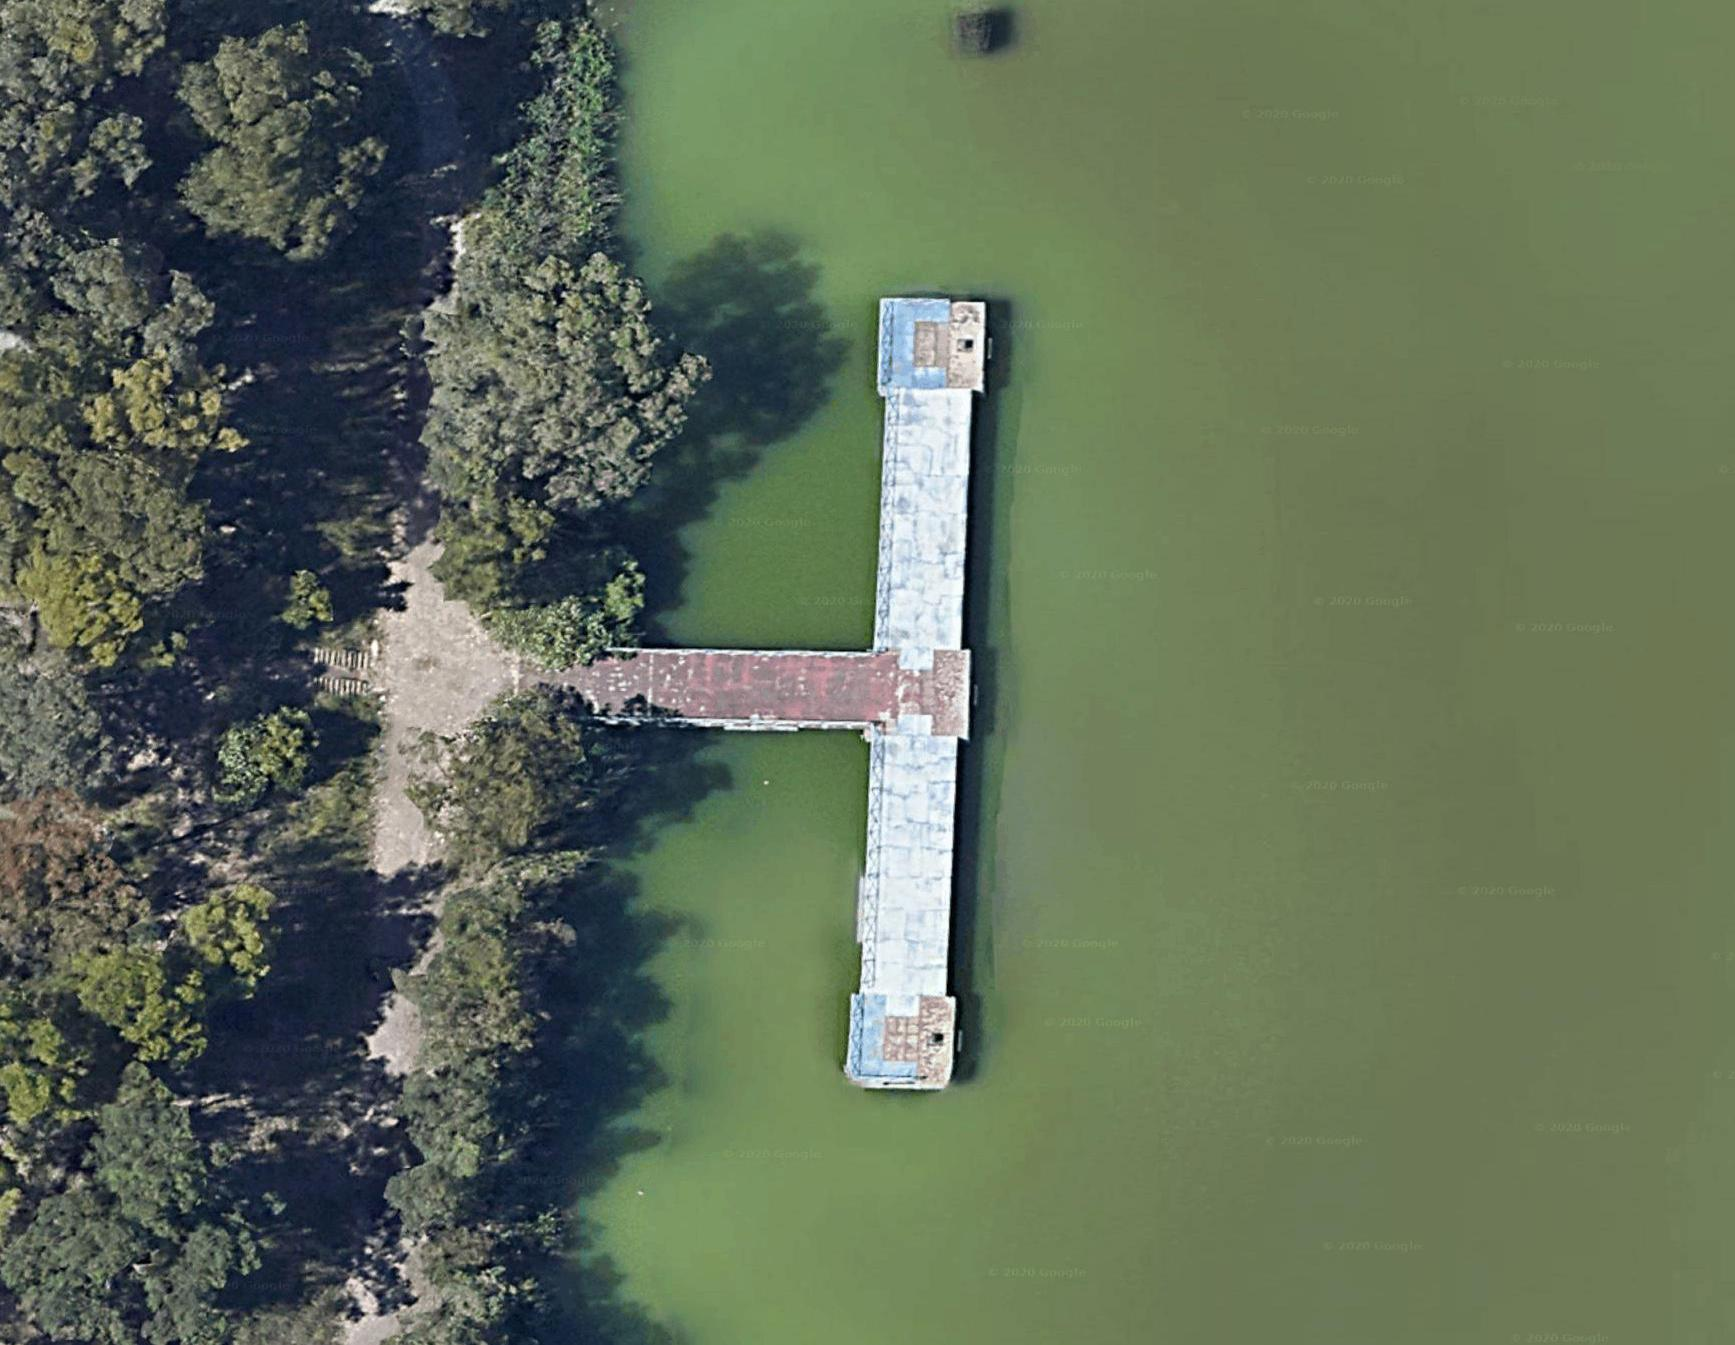harbor: (653, 273, 1065, 1130)
